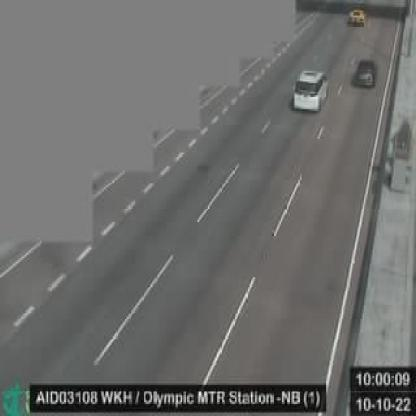Car: (292, 68, 330, 113), (354, 56, 377, 88), (350, 10, 366, 27)
